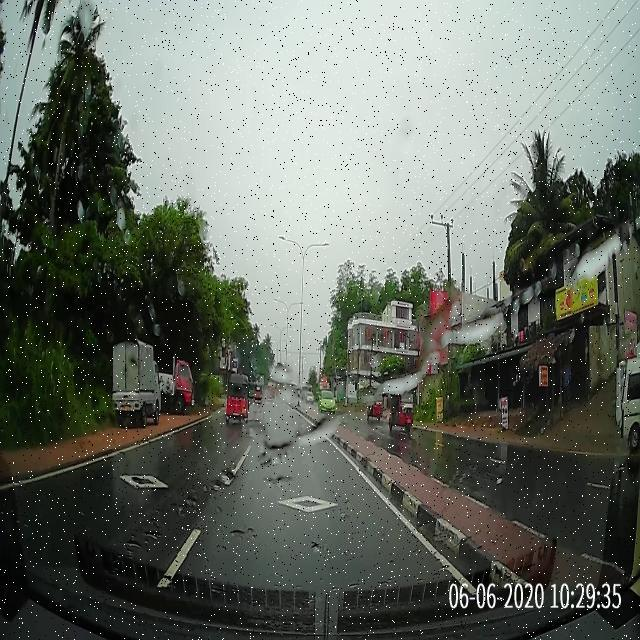diamond: (178, 469, 445, 555)
